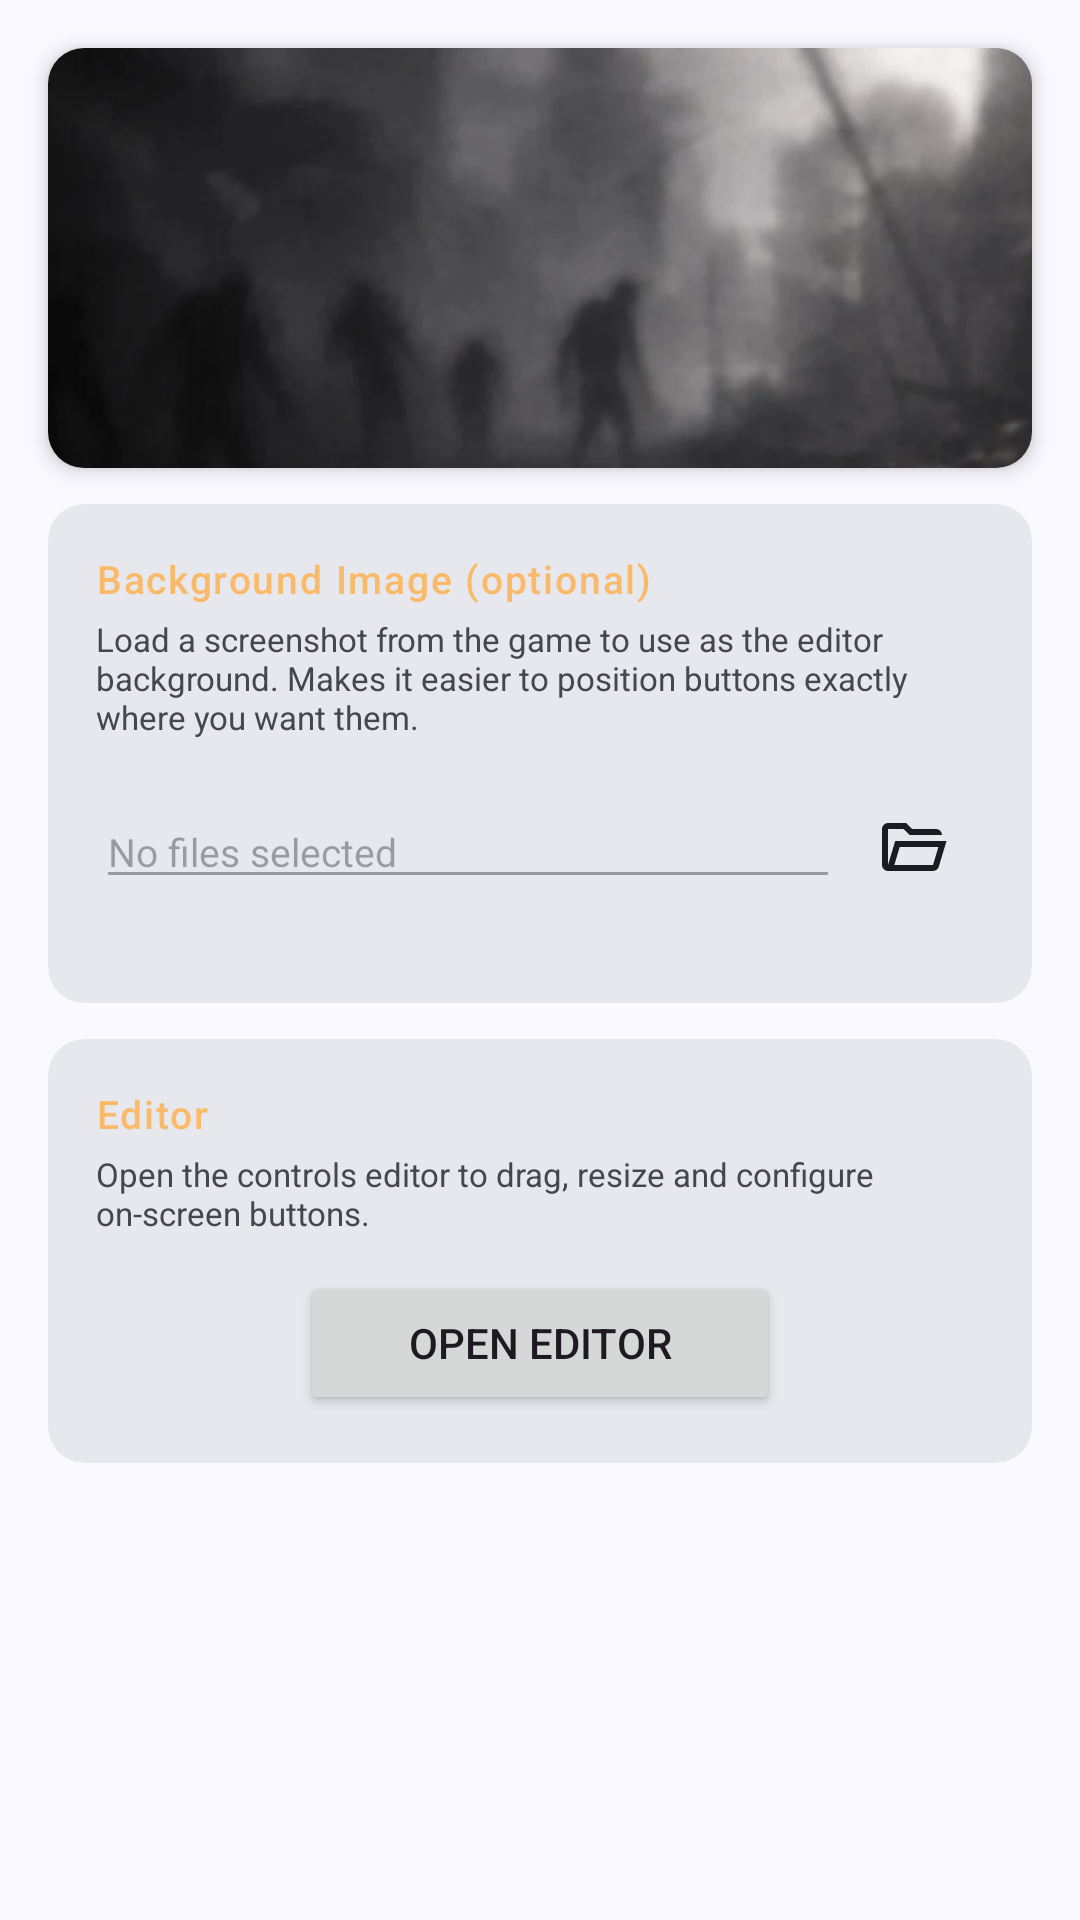

Icons on this 1080 x 1920 Android screen, each with its box as (left=x1, top=y1, right=x2, bottom=y2):
folder open: (left=882, top=823, right=947, bottom=871)
